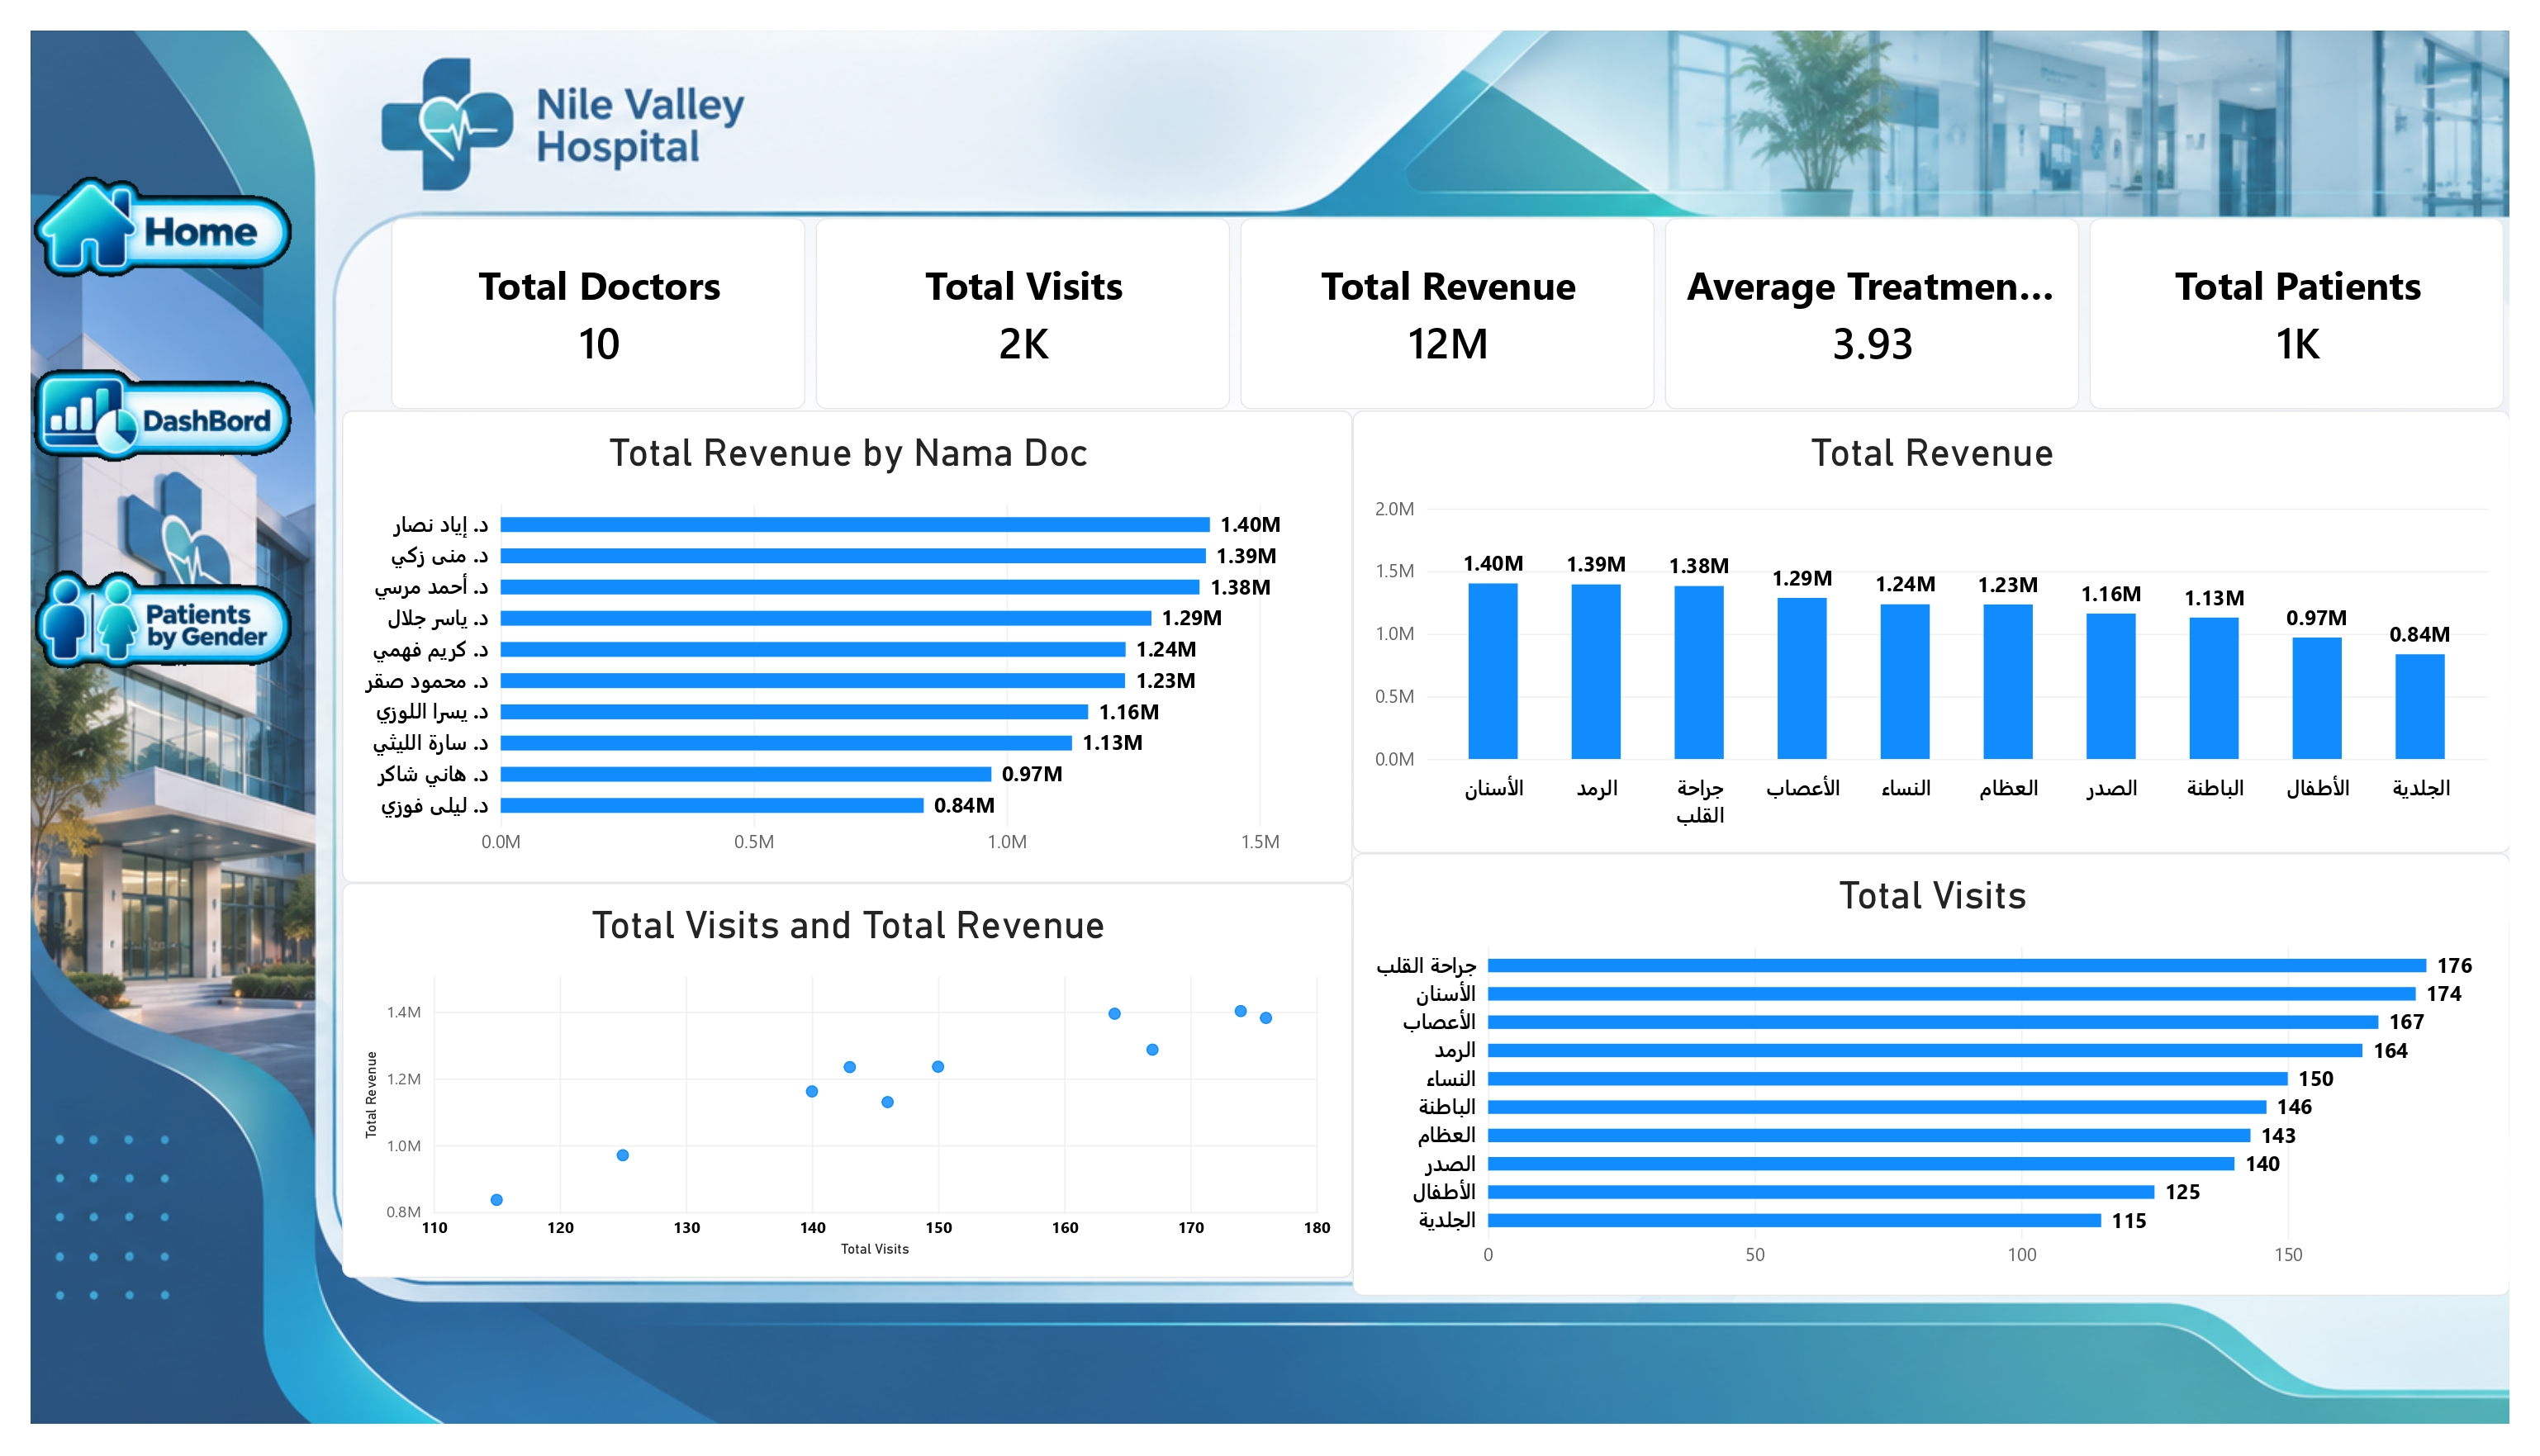

The dashboard page shown, as its layout file describes it:
{"tool":"powerbi","page":{"name":"Doctors Performance","canvas":[1920,1080],"ordinal":3},"visuals":[{"type":"cardVisual","fields":{"Data":["Dax.Total Doctors","Dax.Total Visits","Dax.Total Revenue","Dax.Average Treatment Days","Dax.Total Patients"]},"box":[279.3,145,1641.3,149],"z":0},{"type":"clusteredBarChart","title":"Total Revenue by Nama Doc","fields":{"Y":["Dax.Total Revenue"],"Category":["doctors.اسم_الدكتور"]},"box":[240.7,293.9,783.4,365.8],"z":1000},{"type":"clusteredColumnChart","title":"Total Revenue","fields":{"Category":["doctors.التخصص"],"Y":["Dax.Total Revenue"]},"box":[1024.1,293.9,896.5,343.2],"z":2000},{"type":"barChart","title":"Total Visits ","fields":{"Category":["doctors.التخصص"],"Y":["Dax.Total Visits"]},"box":[1024.1,637.1,896.5,343.2],"z":3000},{"type":"image","box":[0,75.8,206.2,150.3],"z":4000},{"type":"image","box":[0,215.5,206.2,163.6],"z":5000},{"type":"image","box":[0,379.1,206.2,150.3],"z":6000},{"type":"scatterChart","title":"Total Visits and Total Revenue","fields":{"X":["Dax.Total Visits"],"Y":["Dax.Total Revenue"],"Category":["doctors.اسم_الدكتور"]},"box":[240.7,659.7,783.4,305.9],"z":6001}]}

Visuals, with their boxes on the page's 1920x1080 design canvas (x1, y1, x2, y2). These are canvas units, not pixel positions in the 2540x1456 screenshot, which may show the page scaled, cropped or inside an application window:
cardVisual - Dax.Total Doctors x Dax.Total Visits: rect(279, 145, 1921, 294)
"Total Revenue by Nama Doc" clusteredBarChart: rect(241, 294, 1024, 660)
"Total Revenue" clusteredColumnChart: rect(1024, 294, 1921, 637)
"Total Visits " barChart: rect(1024, 637, 1921, 980)
image: rect(0, 76, 206, 226)
image: rect(0, 216, 206, 379)
image: rect(0, 379, 206, 529)
"Total Visits and Total Revenue" scatterChart: rect(241, 660, 1024, 966)
